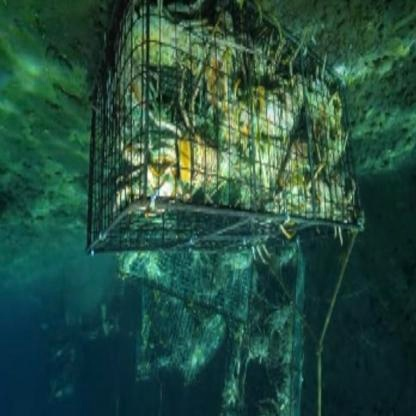metal: (106, 61, 358, 248)
net: (133, 274, 322, 416)
